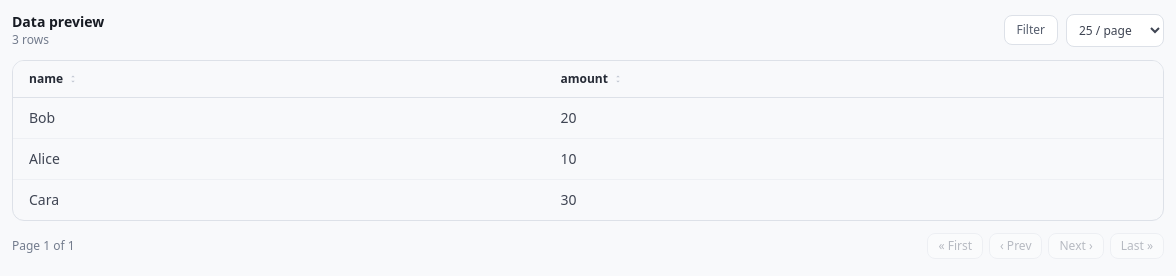
it: DataPreview › sorts rows ascending then descending on header click
Click the button "amount" at {"x": 584, "y": 78}, box [560,71,1147,87]
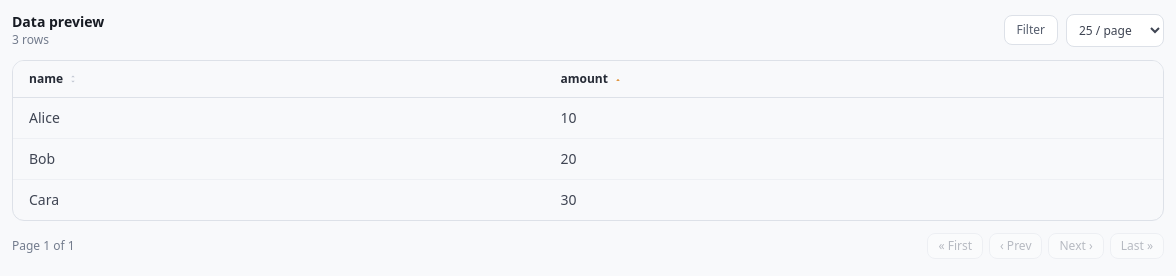
Now the row "Alice 10" is shown, box [13,98,1163,138]
Click the button "amount" at {"x": 584, "y": 78}, box [560,71,1147,87]
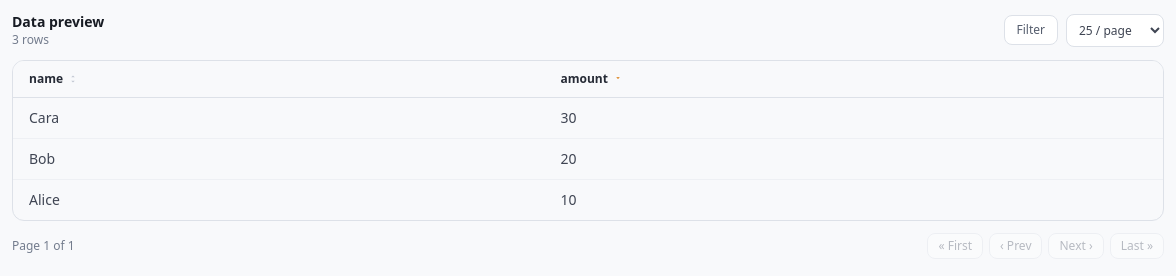
Now the row "Cara 30" is shown, box [13,98,1163,138]
